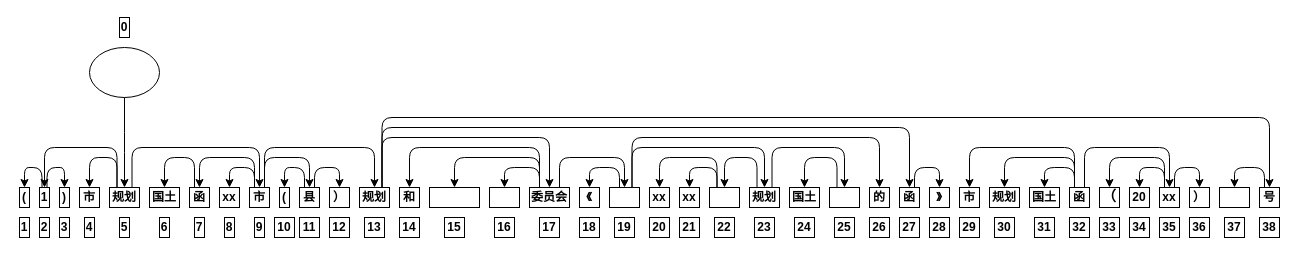
This 1297x255 diagram has some shape labels left out. The shapes that lost their labels are listed below. From the top down, each one's centre as x and y in pixels, then its label:
the point at 124,72: root
the point at 454,197: 国土资源
the point at 504,197: 管理
the point at 624,197: 关于
the point at 724,197: 项目
the point at 844,197: 意见
the point at 1234,197: xxxx
